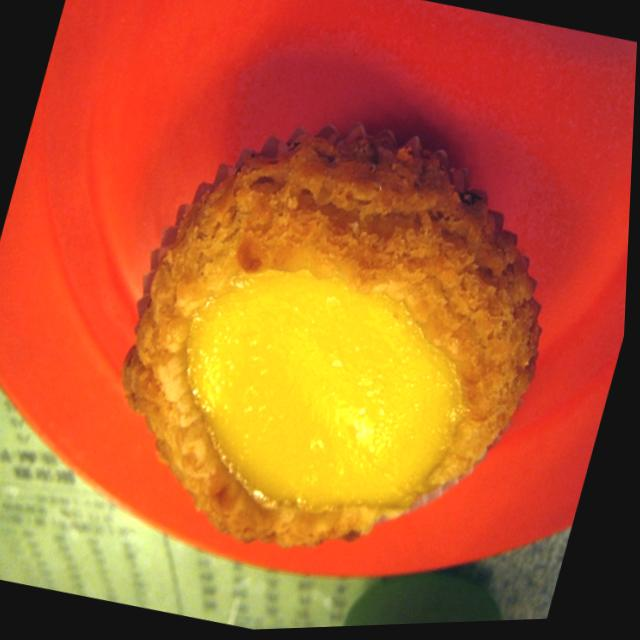炸货点心: (29, 63, 596, 639)
蛋糕甜品: (29, 63, 596, 639)
